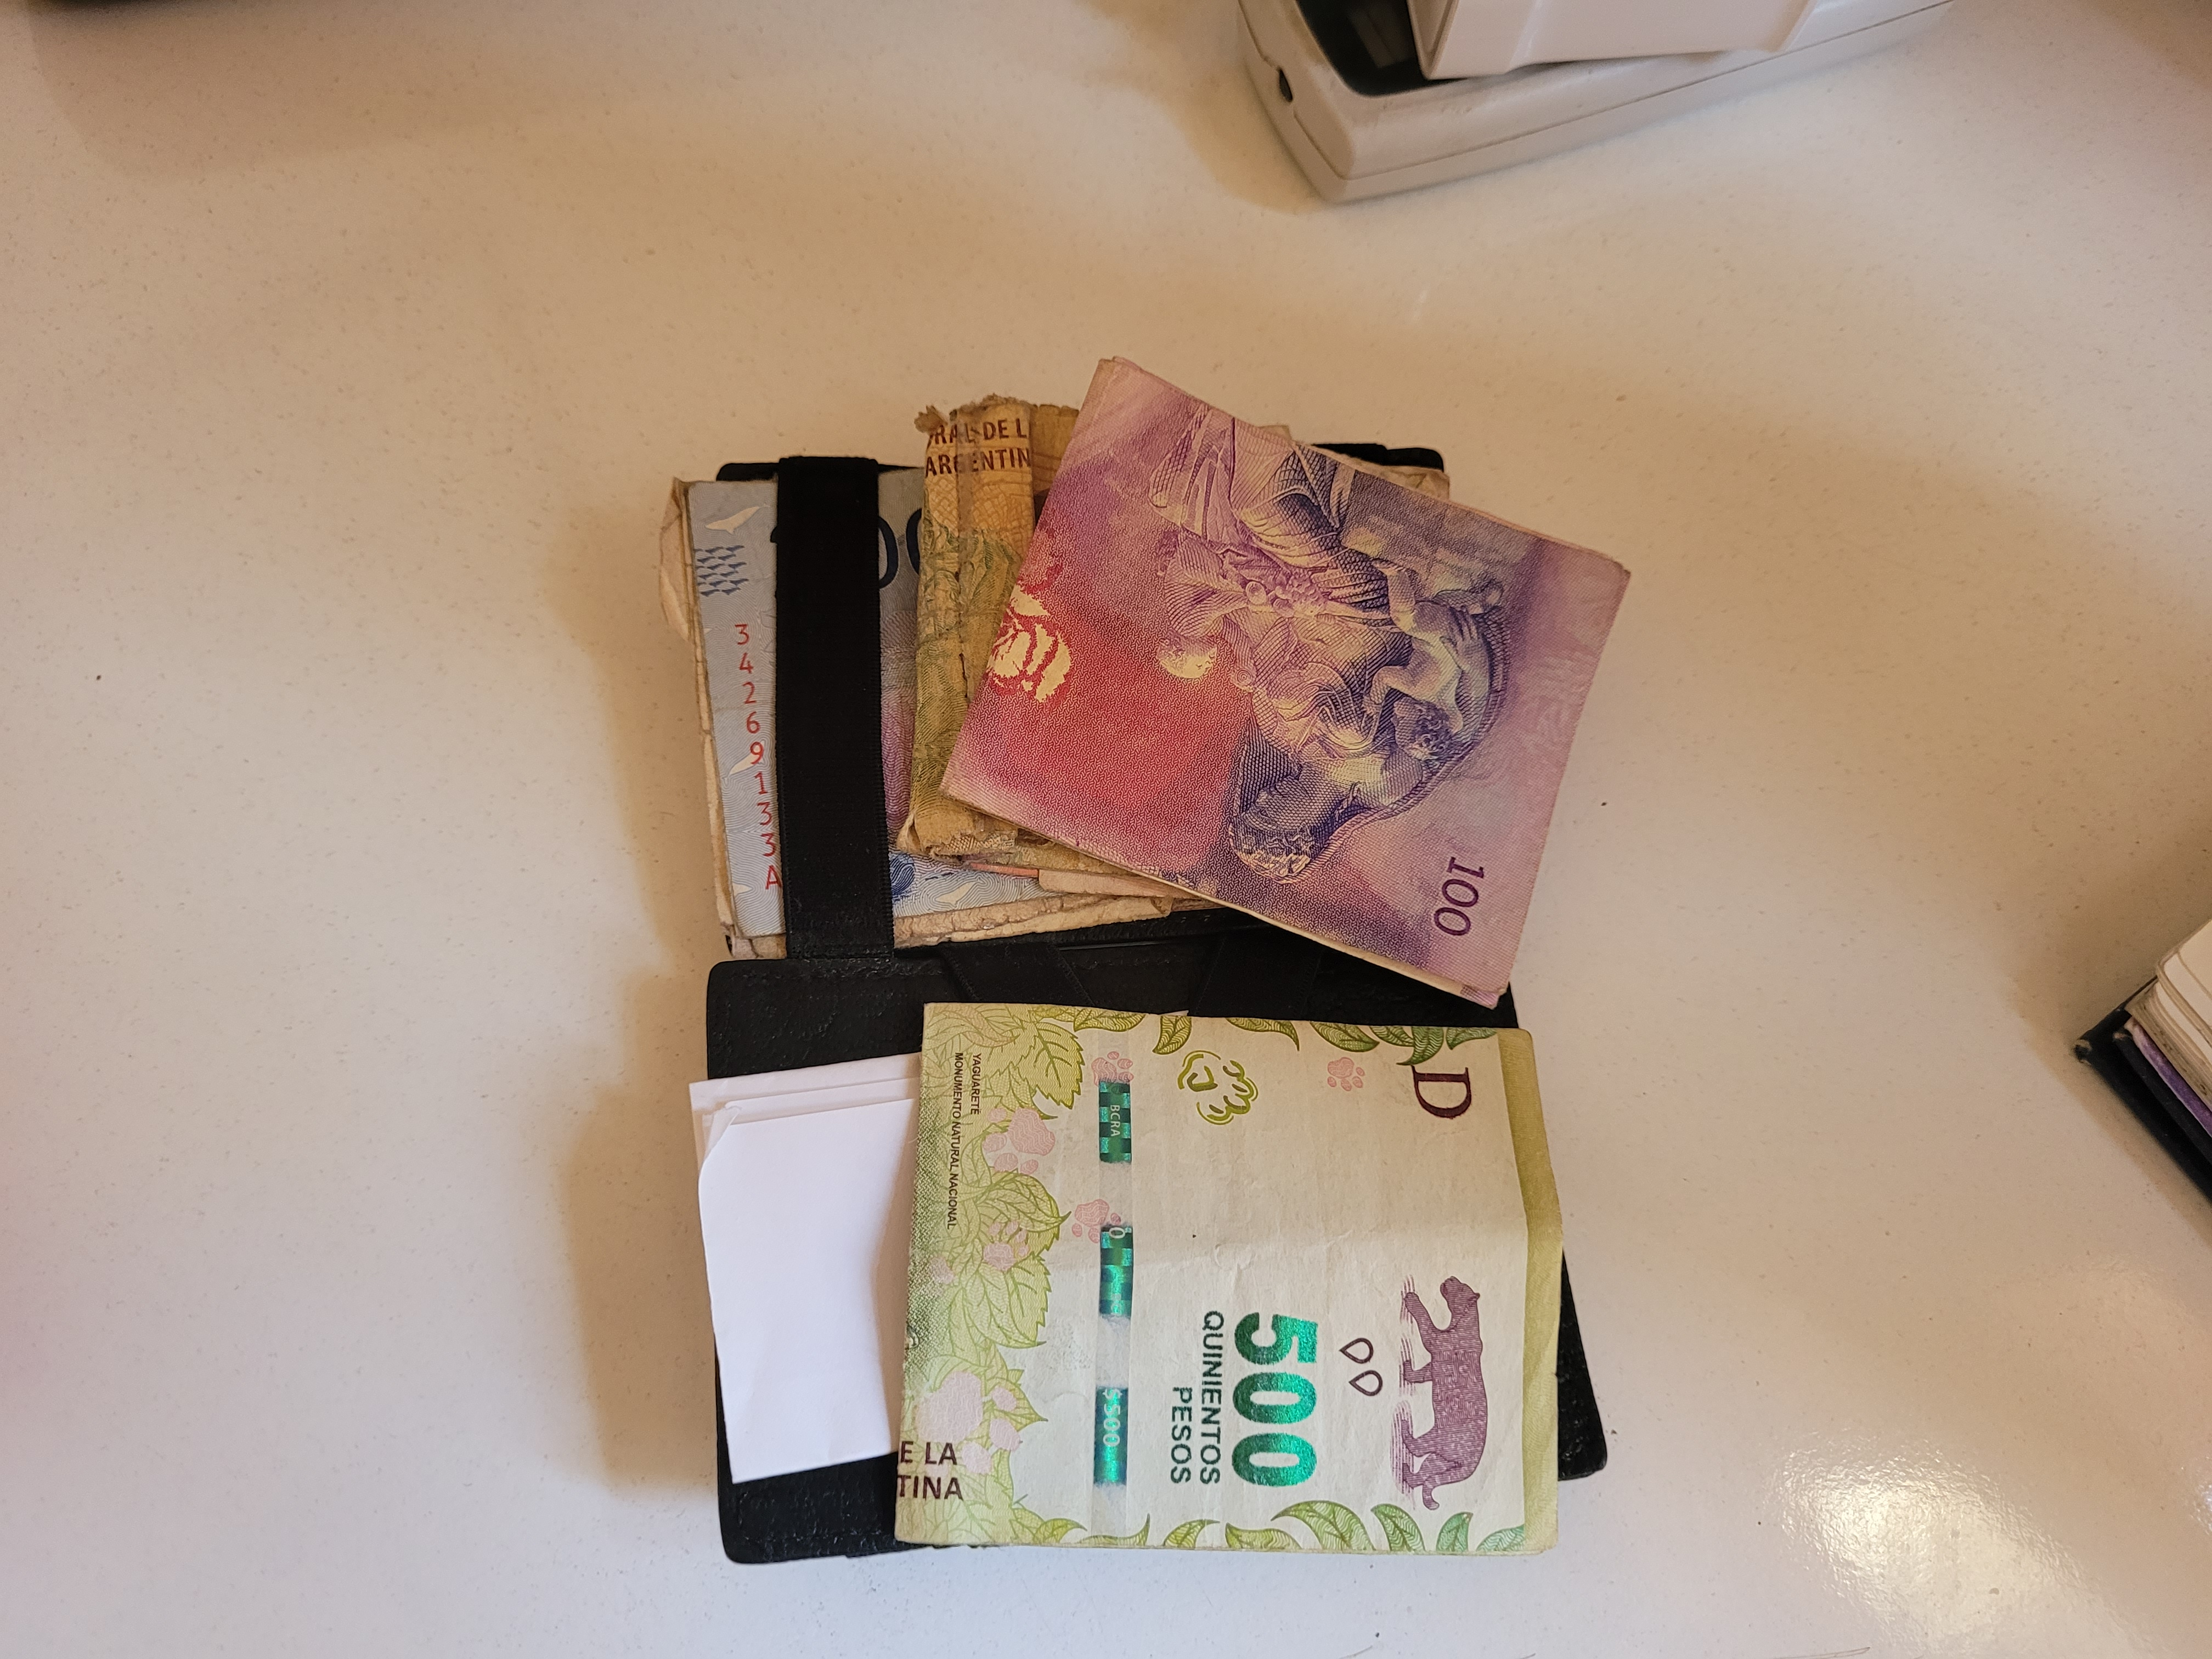billetera: (644, 352, 1649, 1568)
